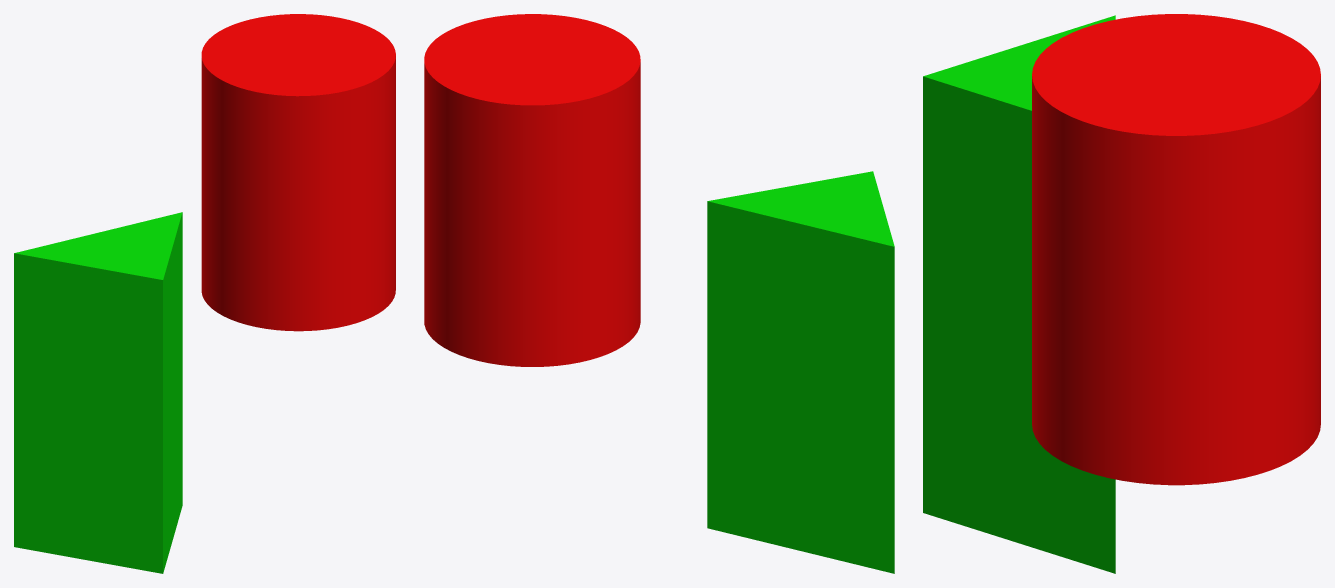
The model's file is Jack Muzekari.gltf.
3 renders of one model, left to right at view 1: azimuth 30°, elevation 25°; view 2: azimuth 150°, elevation 25°; view 3: azimuth 270°, elevation 25°, orthographic. The views are drawn at different scales.
Parts seen in each view (by area): view 1: mesh4_mesh_1, mesh0_mesh_2, mesh0_mesh_3, mesh0_mesh_1, mesh4_mesh_3, mesh4_mesh_4; view 2: mesh4_mesh_2, mesh0_mesh_2, mesh0_mesh_3, mesh0_mesh_1, mesh4_mesh_4; view 3: mesh0_mesh_1, mesh4_mesh_3, mesh0_mesh_3, mesh4_mesh_4.
Part boxes in pixels (x1,y1,x2,y2): mesh4_mesh_1: (14,253,162,573); mesh0_mesh_2: (201,58,347,331); mesh0_mesh_3: (201,14,395,96); mesh0_mesh_1: (347,56,395,325); mesh4_mesh_3: (163,212,182,573); mesh4_mesh_4: (14,212,182,279); mesh4_mesh_2: (707,201,894,573); mesh0_mesh_2: (478,62,640,366); mesh0_mesh_3: (424,14,640,105); mesh0_mesh_1: (424,63,478,360); mesh4_mesh_4: (707,171,894,246); mesh0_mesh_1: (1032,76,1320,485); mesh4_mesh_3: (923,76,1115,573); mesh0_mesh_3: (1032,14,1320,135); mesh4_mesh_4: (923,15,1115,110).
Bounding box in the file's own units: 0.1386 × 0.137 × 0.0826.
